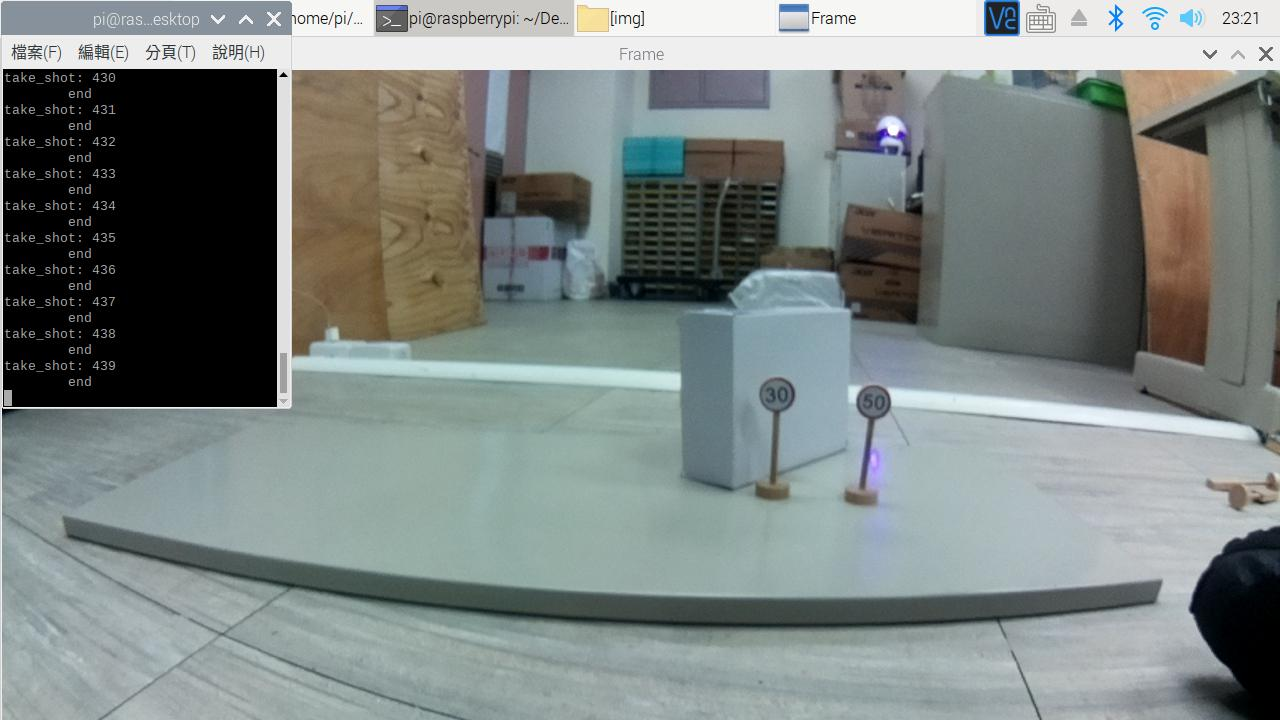Speed30: (742, 366, 808, 424)
Speed50: (843, 378, 904, 434)
